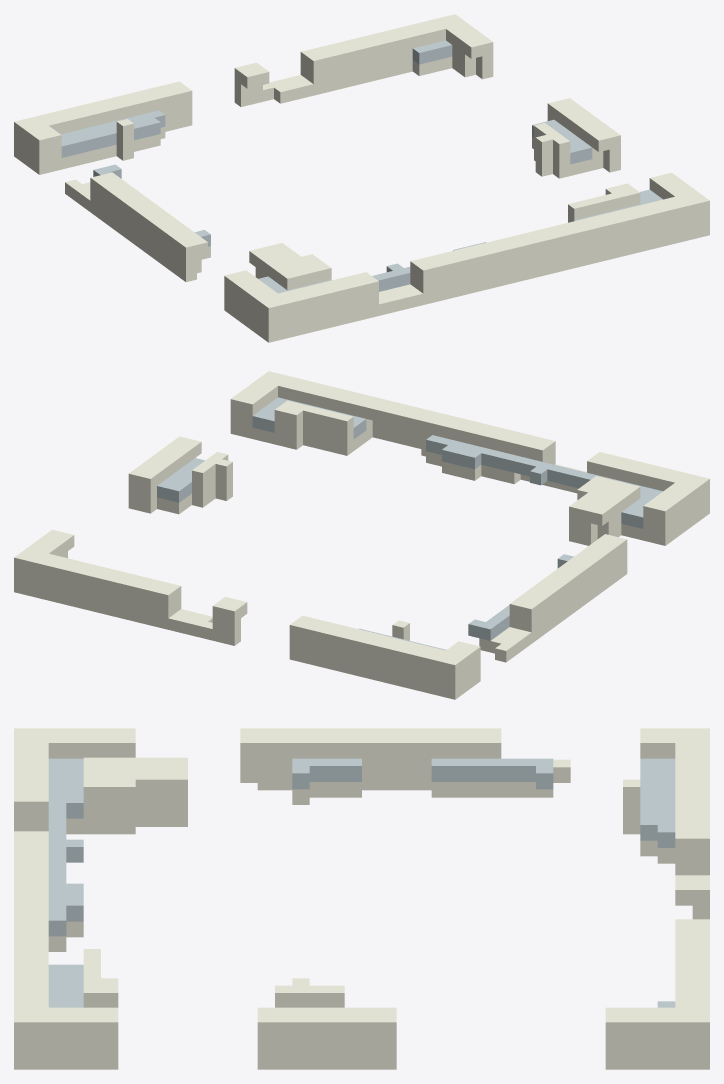
Rendered from env_floor_basic_destroyed.obj.
The picture shows the model from 3 angles, top to bottom: view 1: azimuth 30°, elevation 25°; view 2: azimuth 150°, elevation 25°; view 3: azimuth 270°, elevation 25°; orthographic projection. The views are drawn at different scales.
Size of the model in its own units: 40 by 3 by 40.
1 material, 1 textured.
